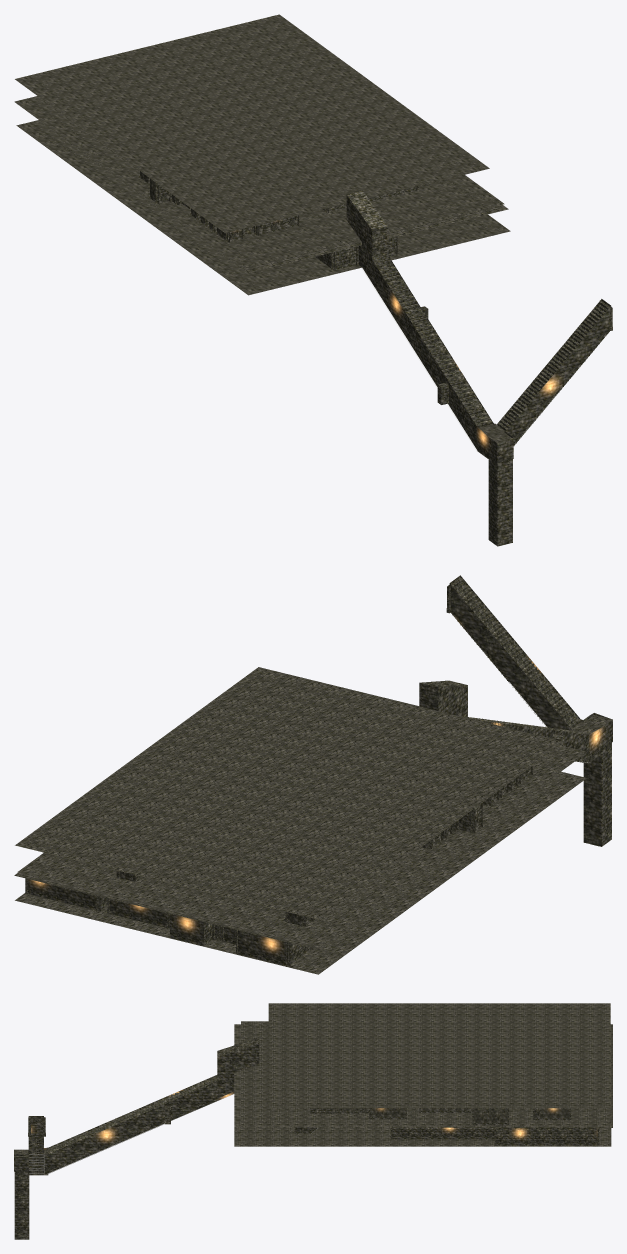
Rendered from 002_zennkiseisaku_meiro2_01_36.fbx.
3 renders of one model, top to bottom at view 1: azimuth 30°, elevation 25°; view 2: azimuth 150°, elevation 25°; view 3: azimuth 270°, elevation 25°, orthographic. The views are drawn at different scales.
Visible parts, largest first — view 1: tenjou_2kai, yuka_2kai, kabe_1kai, yuka_1kai, tenjou_kaidann, tenjou_kaidann2, kabe_2kai, tenjou_1kai; view 2: tenjou_2kai, kabe_1kai, yuka_2kai, yuka_1kai, tenjou_kaidann2, tenjou_1kai, kabe_2kai, hasira; view 3: tenjou_2kai, kabe_1kai, yuka_2kai, yuka_1kai, kabe_2kai, tenjou_1kai, tenjou_kaidann, kaidann.
Part boxes in pixels (x1=…): tenjou_2kai: x1=15, y1=14, x2=489, y2=233; yuka_2kai: x1=14, y1=96, x2=504, y2=268; kabe_1kai: x1=315, y1=190, x2=611, y2=546; yuka_1kai: x1=16, y1=120, x2=510, y2=295; tenjou_kaidann: x1=372, y1=255, x2=492, y2=427; tenjou_kaidann2: x1=497, y1=301, x2=609, y2=430; kabe_2kai: x1=140, y1=171, x2=416, y2=241; tenjou_1kai: x1=242, y1=204, x2=508, y2=272; tenjou_2kai: x1=15, y1=667, x2=564, y2=920; kabe_1kai: x1=27, y1=575, x2=612, y2=966; yuka_2kai: x1=17, y1=747, x2=585, y2=946; yuka_1kai: x1=15, y1=771, x2=586, y2=974; tenjou_kaidann2: x1=451, y1=578, x2=580, y2=728; tenjou_1kai: x1=14, y1=745, x2=586, y2=949; kabe_2kai: x1=119, y1=767, x2=531, y2=926; hasira: x1=25, y1=766, x2=532, y2=966; tenjou_2kai: x1=268, y1=1003, x2=610, y2=1108; kabe_1kai: x1=14, y1=1037, x2=597, y2=1239; yuka_2kai: x1=241, y1=1021, x2=610, y2=1125; yuka_1kai: x1=234, y1=1127, x2=611, y2=1146; kabe_2kai: x1=310, y1=1108, x2=569, y2=1125; tenjou_1kai: x1=234, y1=1024, x2=612, y2=1127; tenjou_kaidann: x1=48, y1=1076, x2=217, y2=1153; kaidann: x1=28, y1=1130, x2=315, y2=1175.
Size of the model in its own units: 973 by 847 by 2341.
